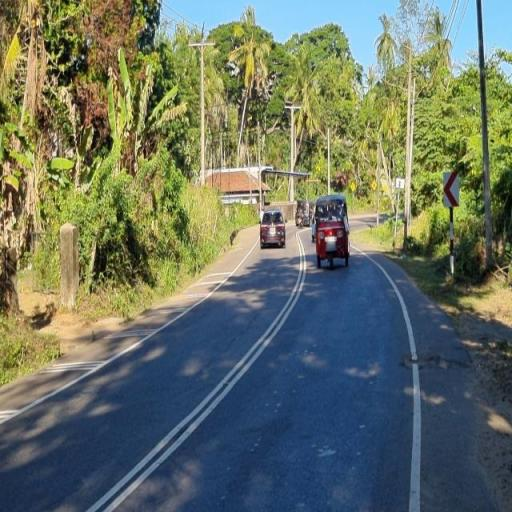double_white_line: (82, 232, 308, 510)
